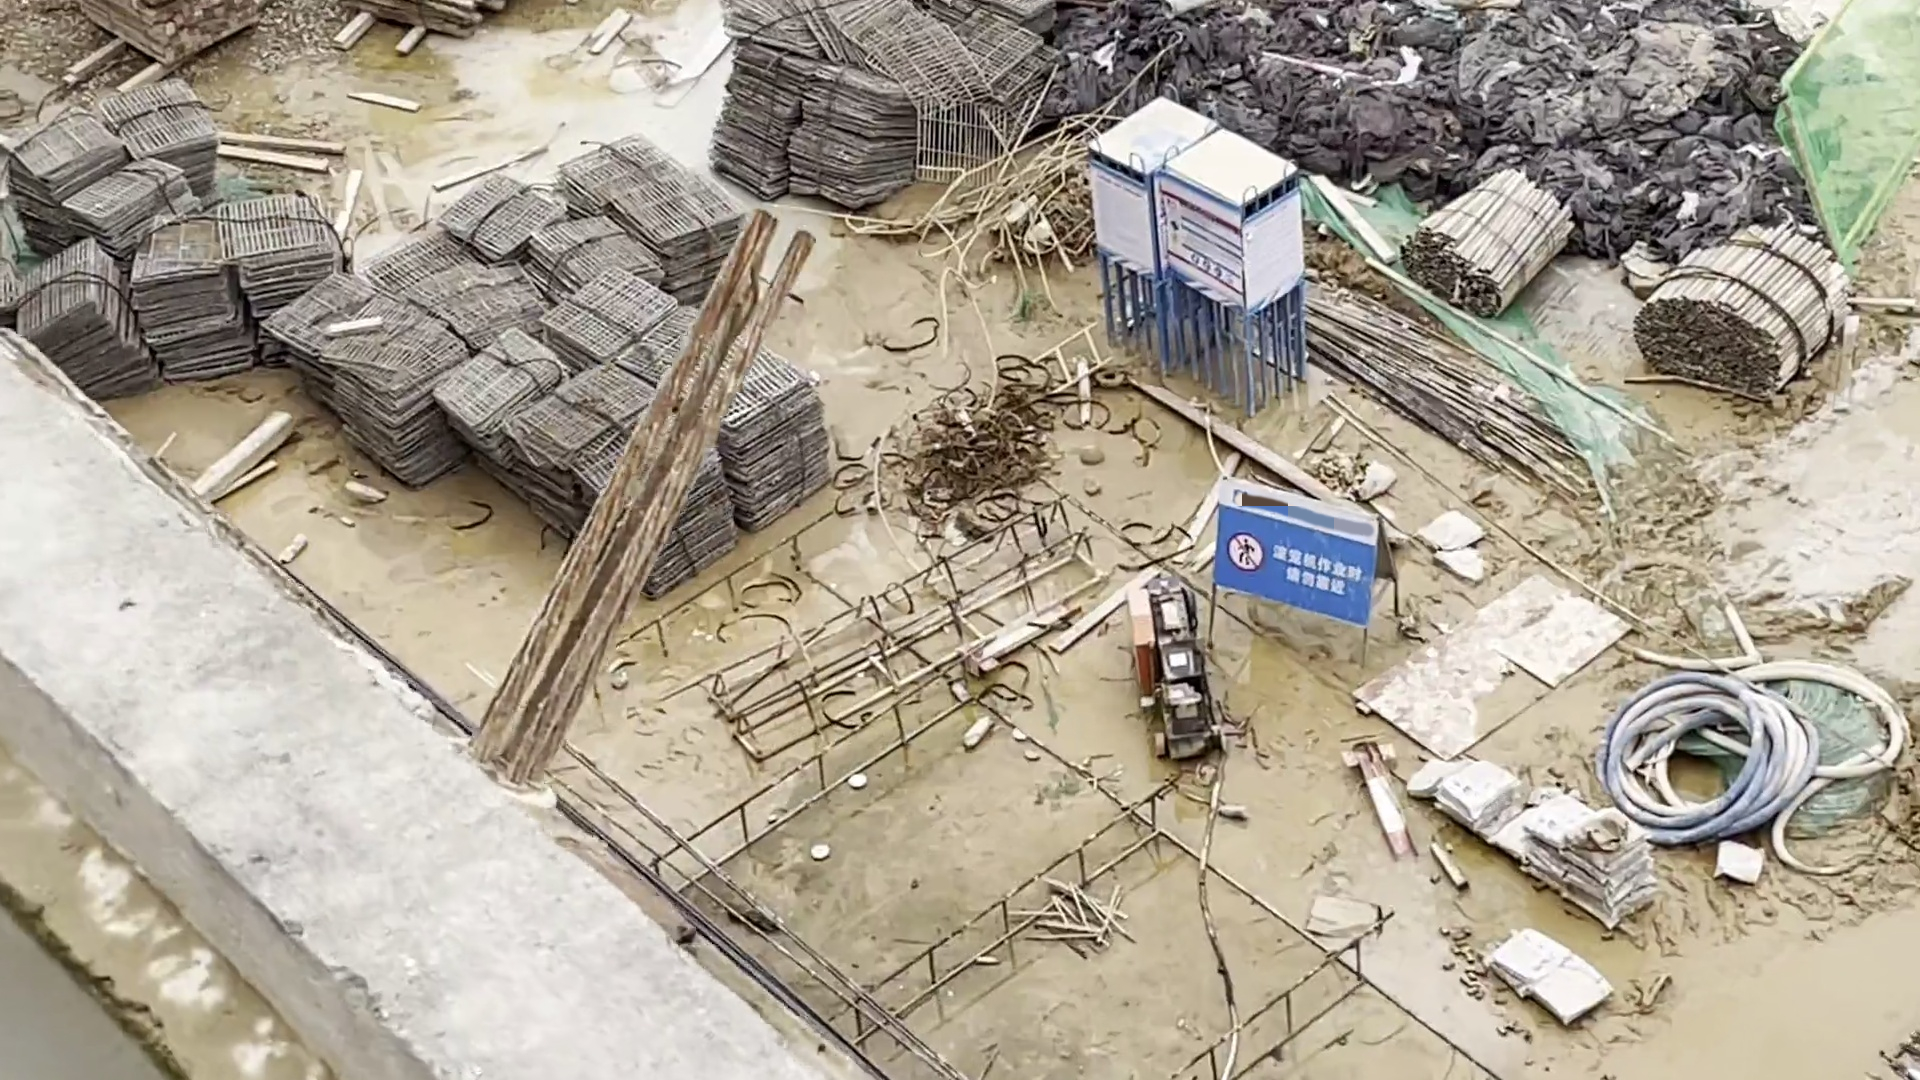slogan: (1225, 520, 1367, 613)
wood: (1630, 220, 1854, 398), (1408, 171, 1575, 309)
